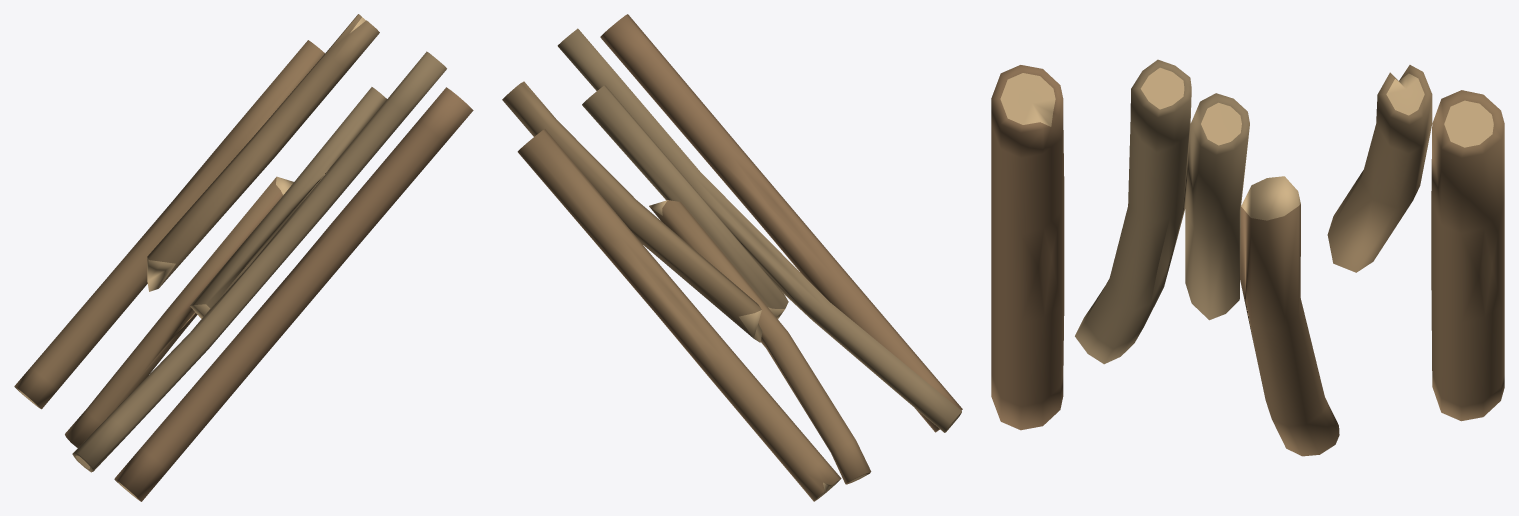
File: rpgpp_av_roof_01_6x3x3_half_a.gltf
3 renders of one model, left to right at view 1: azimuth 30°, elevation 25°; view 2: azimuth 150°, elevation 25°; view 3: azimuth 270°, elevation 25°, orthographic. The views are drawn at different scales.
Parts seen in each view (by area): view 1: rpgpp_av_roof_01_6x3x3_half_a; view 2: rpgpp_av_roof_01_6x3x3_half_a; view 3: rpgpp_av_roof_01_6x3x3_half_a.
Boxes of the visible parts, <box> form: rpgpp_av_roof_01_6x3x3_half_a: <box>14,14,473,501</box>; rpgpp_av_roof_01_6x3x3_half_a: <box>502,14,962,501</box>; rpgpp_av_roof_01_6x3x3_half_a: <box>991,59,1504,456</box>.
Bounding box in the file's own units: 0.0517 × 0.0449 × 0.03.
Materials: 1 (1 with a texture image).
